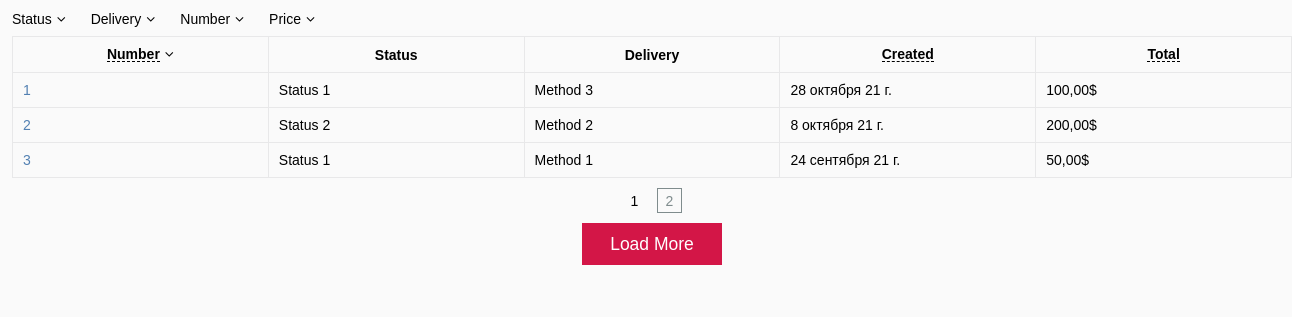
Test: user orders › load more
The width and height of the screenshot is (1292, 317).
Click the button "Load More".
click(652, 244)  # box 582,223 -> 722,265
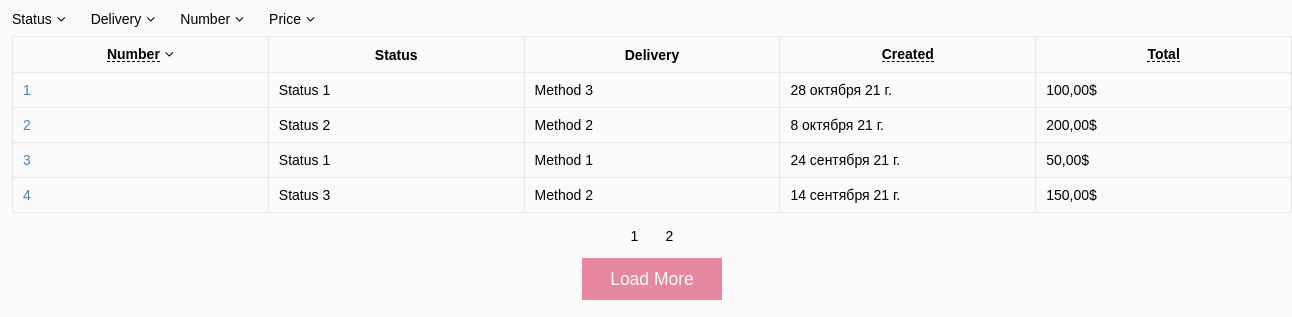
Expected: the button "1" is disabled, 622,223 -> 647,248
Expected: the button "Load More" is disabled, 582,258 -> 722,300
Expected: the button "2" is disabled, 657,223 -> 682,248
